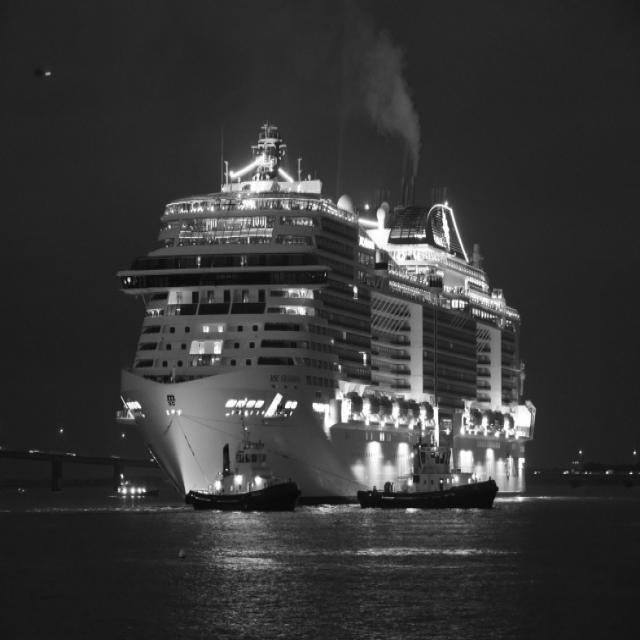cruises: (114, 121, 556, 520)
